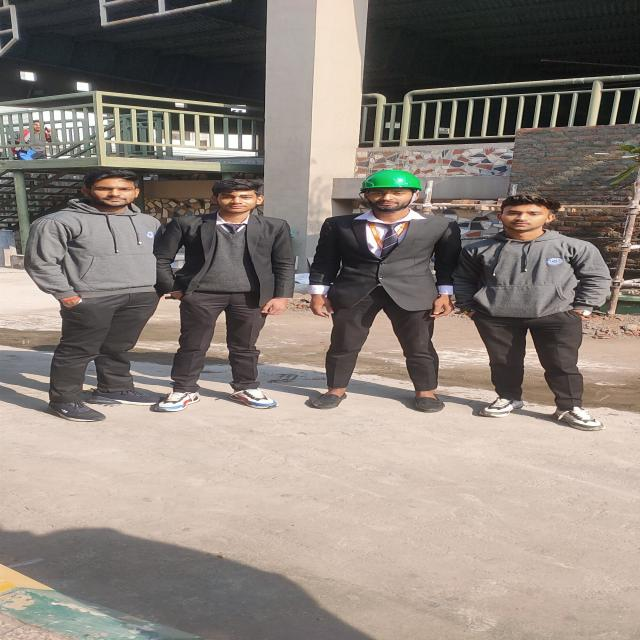no jacket: (310, 171, 462, 412)
unsafe: (458, 195, 612, 431), (25, 166, 156, 421), (158, 178, 296, 412)
